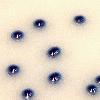Blue: (47, 70, 63, 86), (46, 46, 62, 60), (10, 29, 25, 43), (6, 63, 20, 78), (21, 87, 35, 100), (73, 14, 87, 26), (33, 18, 46, 30), (86, 83, 97, 97), (93, 74, 100, 85)
